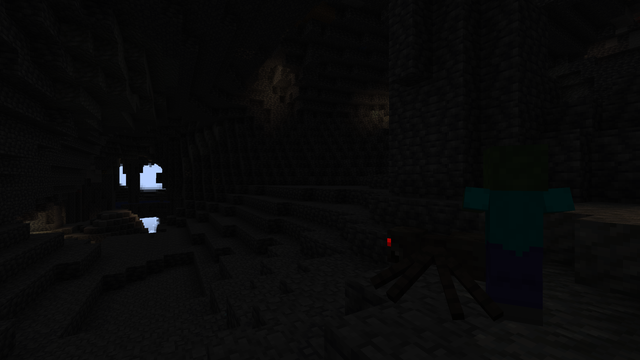araignees: (370, 217, 472, 319)
zombies: (472, 147, 555, 336)
